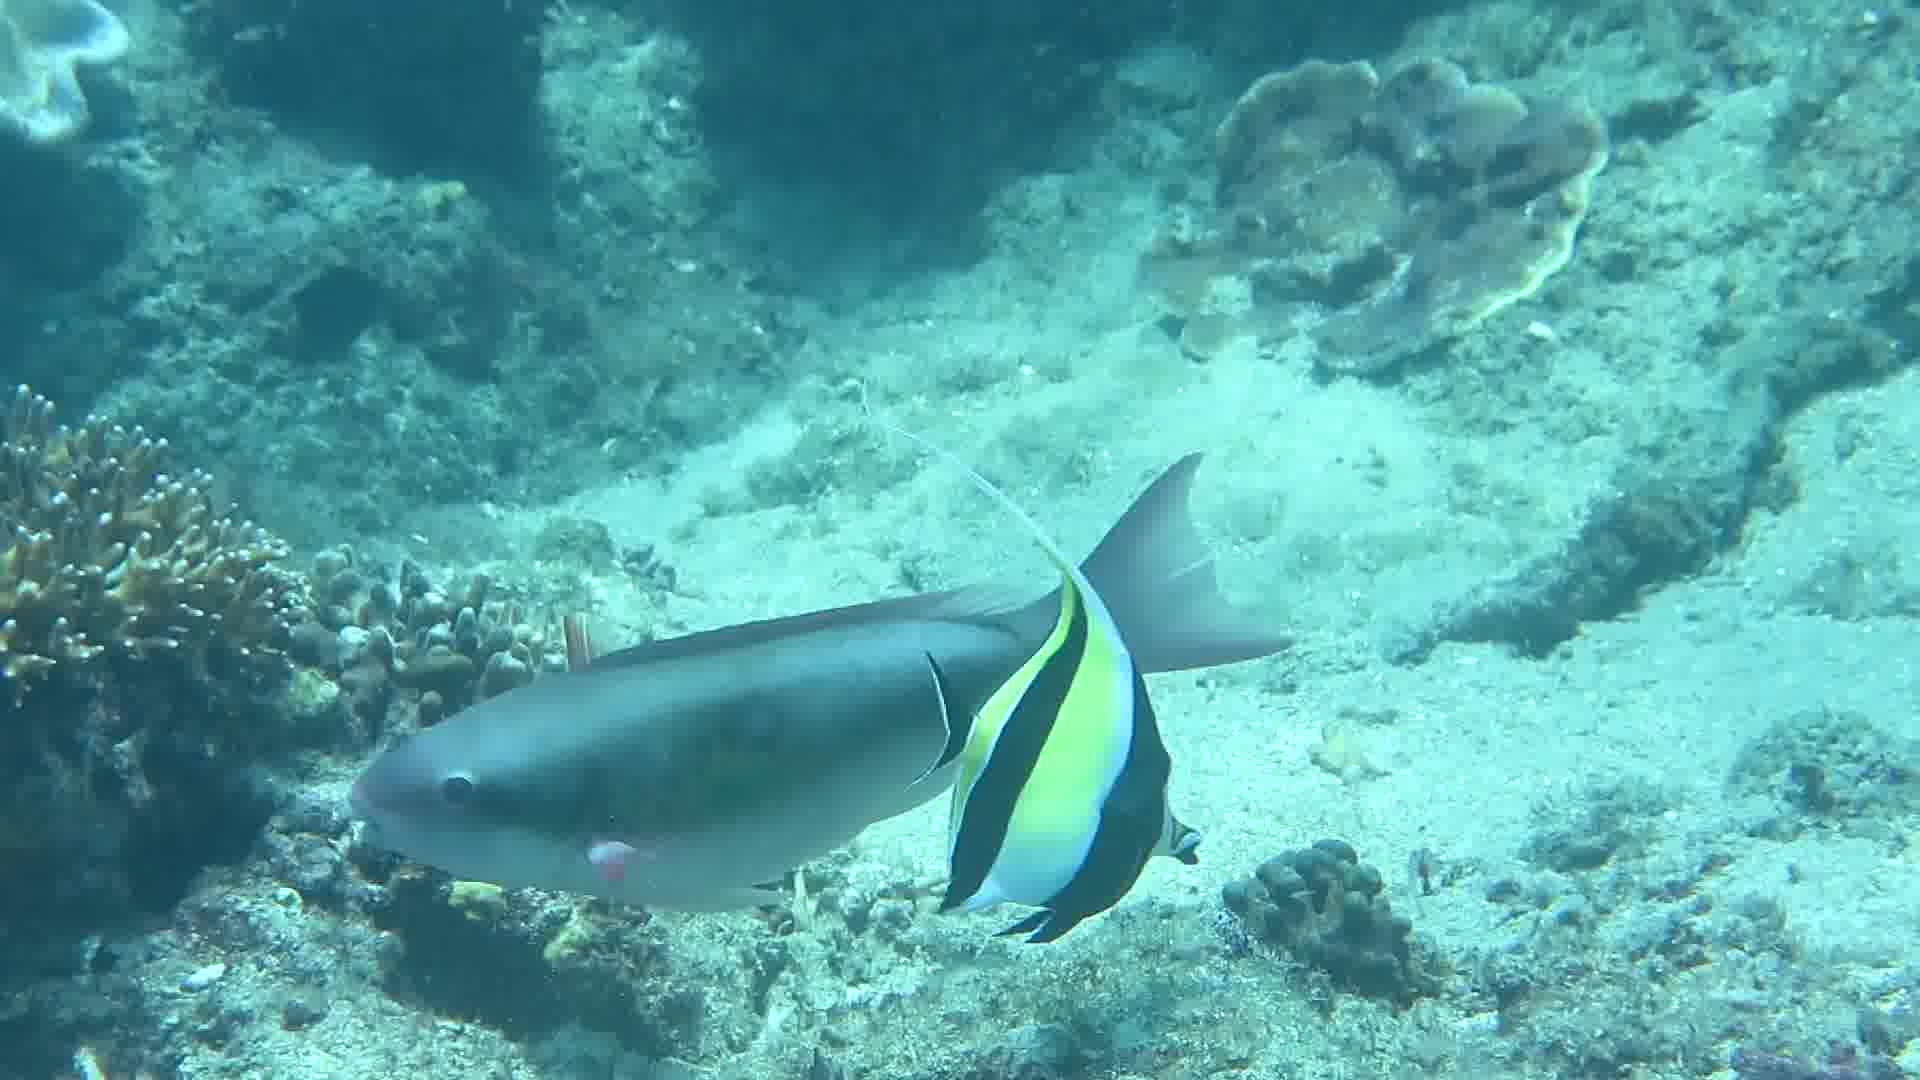Zanclus cornutus: (903, 588, 1258, 952)
